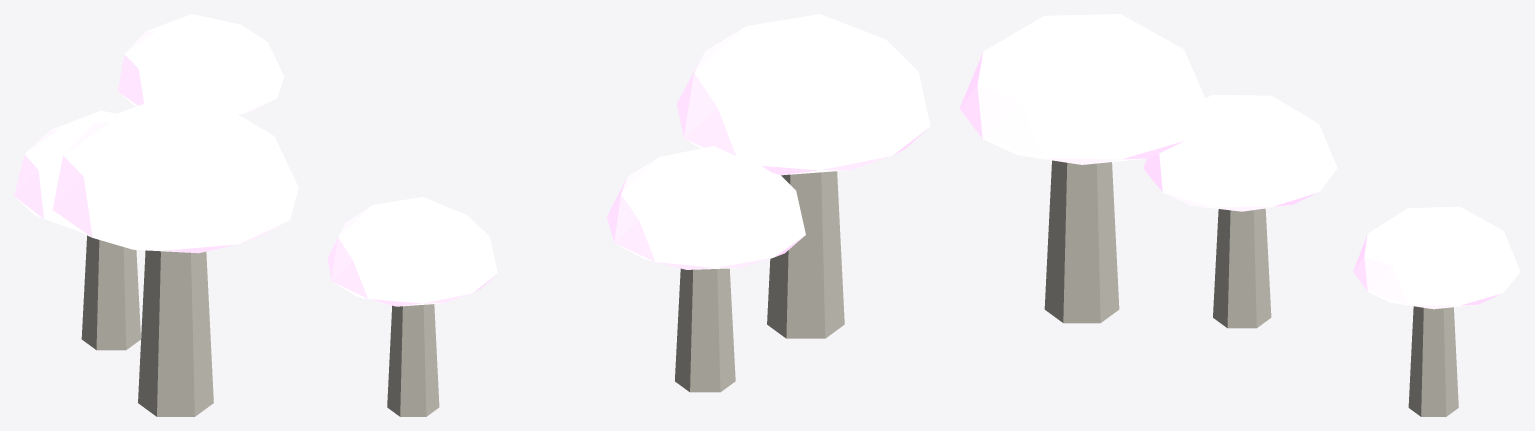
Rendered from GlowShroom_Violet.glb.
The picture shows the model from 3 angles, left to right: view 1: azimuth 30°, elevation 25°; view 2: azimuth 150°, elevation 25°; view 3: azimuth 270°, elevation 25°; orthographic projection. The views are drawn at different scales.
Parts seen in each view (by area): view 1: GlowShroom_Violet; view 2: GlowShroom_Violet; view 3: GlowShroom_Violet.
Boxes of the visible parts, x1,y1,x2,y2 form: GlowShroom_Violet: [14, 14, 298, 416]; GlowShroom_Violet: [327, 14, 930, 416]; GlowShroom_Violet: [959, 14, 1520, 416].
Size of the model in its own units: 0.4271 by 0.312 by 0.5565.
